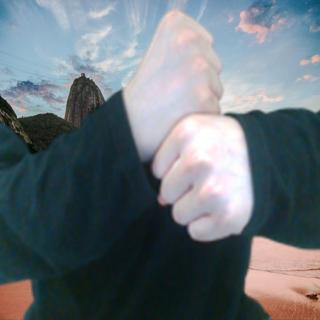CAREFUL: (117, 5, 256, 244)
